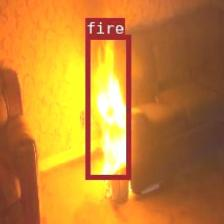fire: (85, 35, 130, 179)
